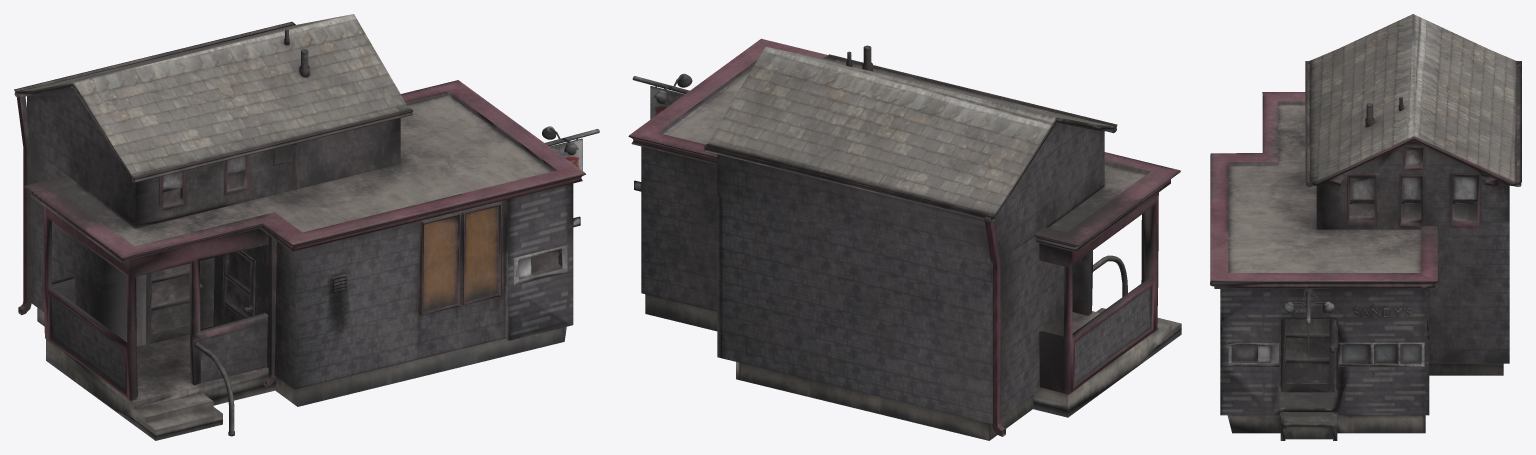
The model's file is Sandeys_Restaraunt_ReTexture.glb.
3 renders of one model, left to right at view 1: azimuth 30°, elevation 25°; view 2: azimuth 150°, elevation 25°; view 3: azimuth 270°, elevation 25°, orthographic. The views are drawn at different scales.
Parts seen in each view (by area): view 1: Sandy's Restaraunt; view 2: Sandy's Restaraunt; view 3: Sandy's Restaraunt.
Part boxes in pixels (x1,y1,x2,y2): Sandy's Restaraunt: (14, 14, 599, 440); Sandy's Restaraunt: (628, 38, 1181, 440); Sandy's Restaraunt: (1210, 14, 1521, 440).
Size of the model in its own units: 10.4 by 5.7 by 6.27.
1 material, 1 textured.
